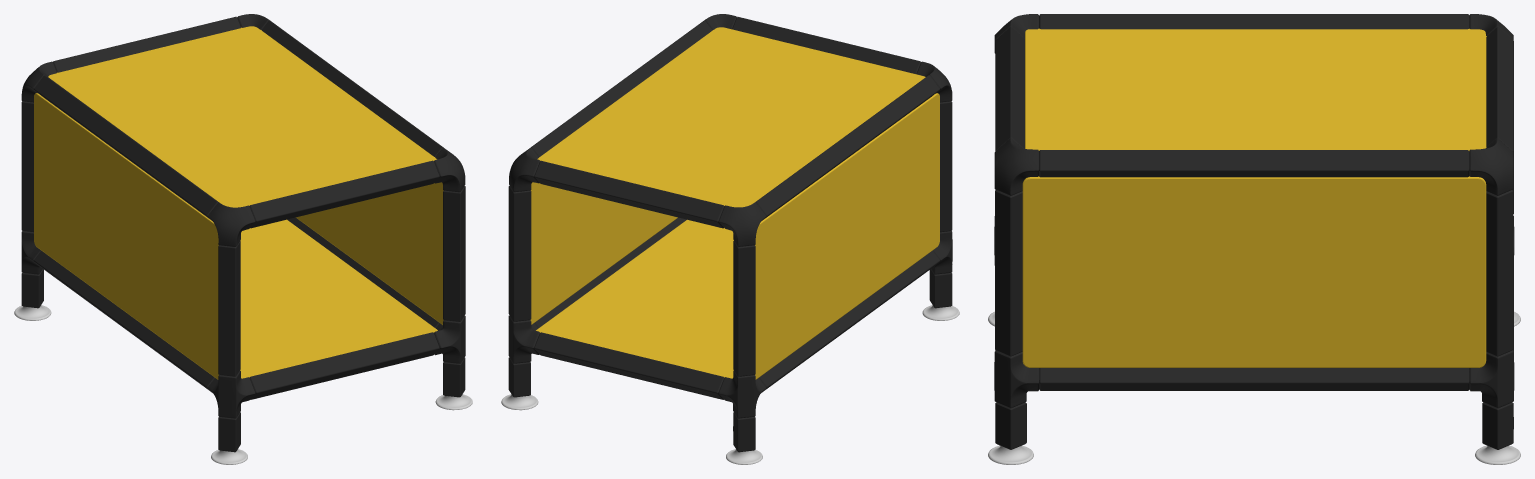
The picture shows the model from 3 angles, left to right: view 1: azimuth 30°, elevation 25°; view 2: azimuth 150°, elevation 25°; view 3: azimuth 270°, elevation 25°; orthographic projection. The views are drawn at different scales.
Parts seen in each view (by area): view 1: 229x374x154; view 2: 229x374x154; view 3: 229x374x154.
Boxes of the visible parts, x1=… form: 229x374x154: x1=14, y1=14, x2=472, y2=464; 229x374x154: x1=501, y1=14, x2=959, y2=464; 229x374x154: x1=988, y1=14, x2=1520, y2=464.
Size of the model in its own units: 0.3188 by 0.2932 by 0.4632.
